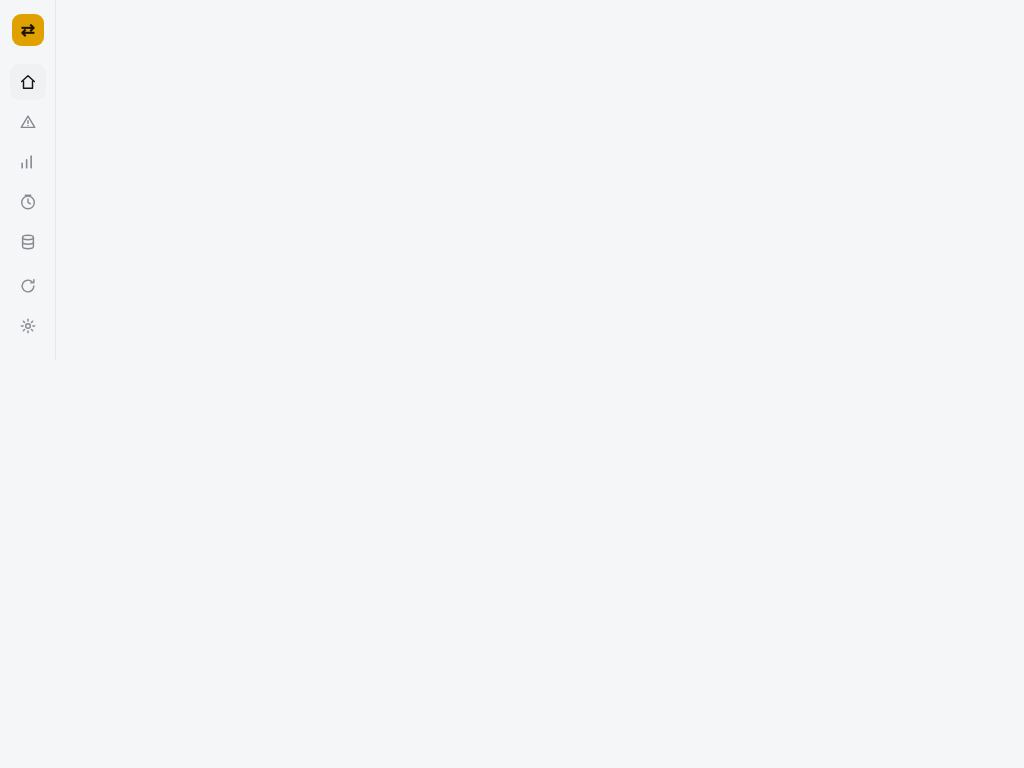
Test: the reload-demo-data control › reports a failed reload as a failure
The image size is (1024, 768).
Click the button named "reload demo data": [28, 286] box [10,268,46,304]
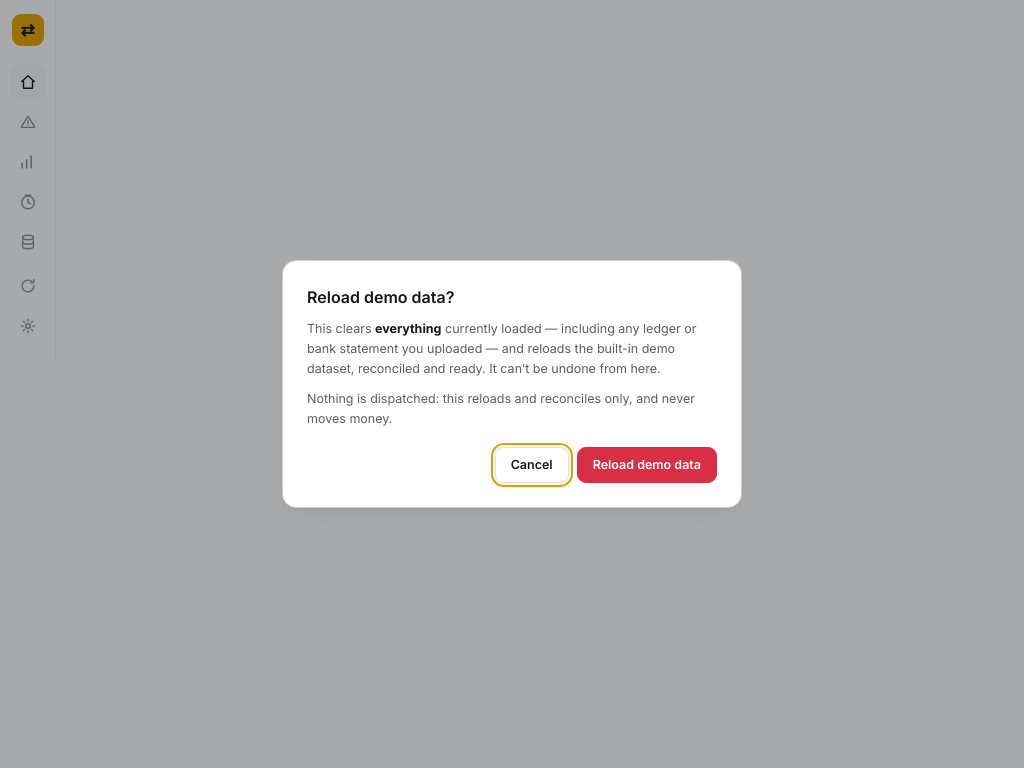
Click the button "Reload demo data": [647, 465] box [577,447,717,483]
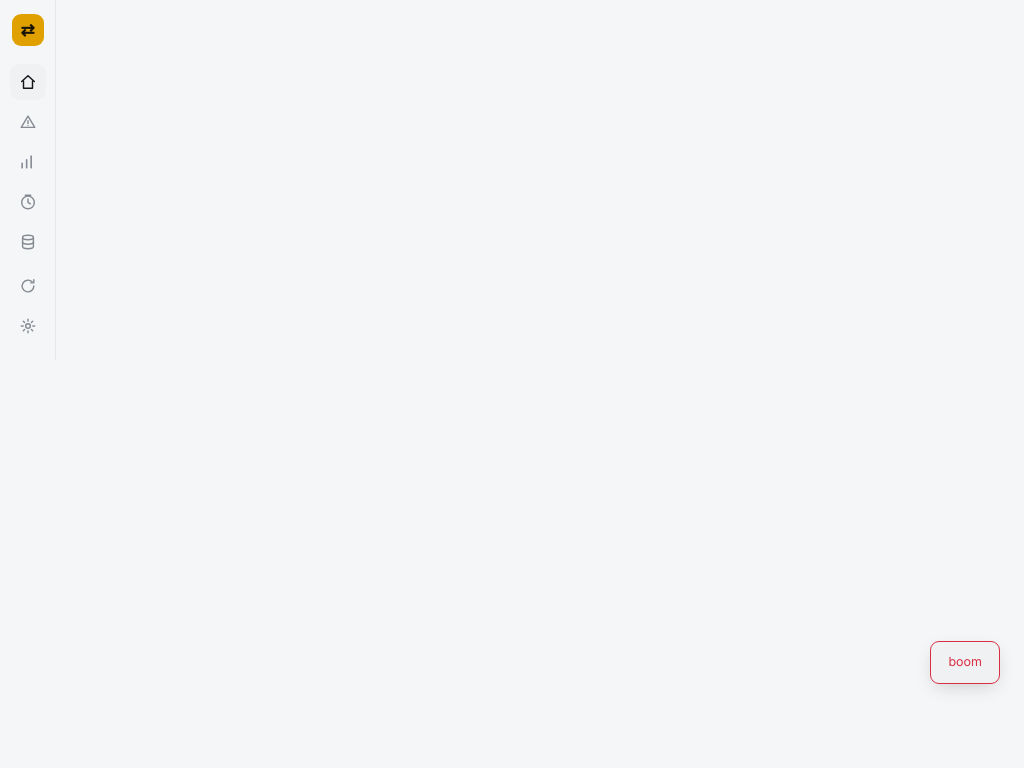
Expected: the message reads "boom", [948,654,982,669]
